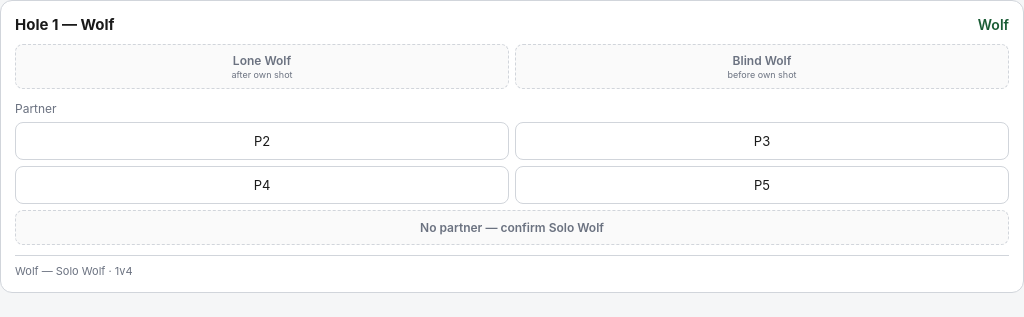
WolfHoleCard — Lone Wolf (declared after own shot, 2x tier) › declaring Lone Wolf clears any partner selection and hides the partner picker
The width and height of the screenshot is (1024, 317).
Click the button "P2": (262, 141) [15,122,509,160]
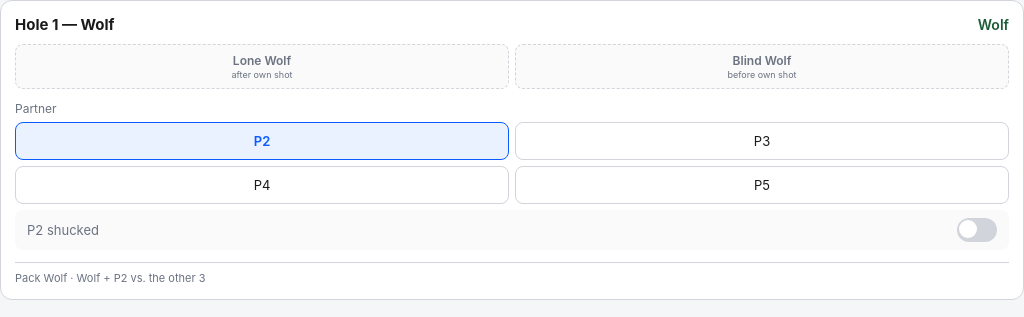
Click the button "Lone Wolf after own shot": (262, 66) [15,44,509,89]
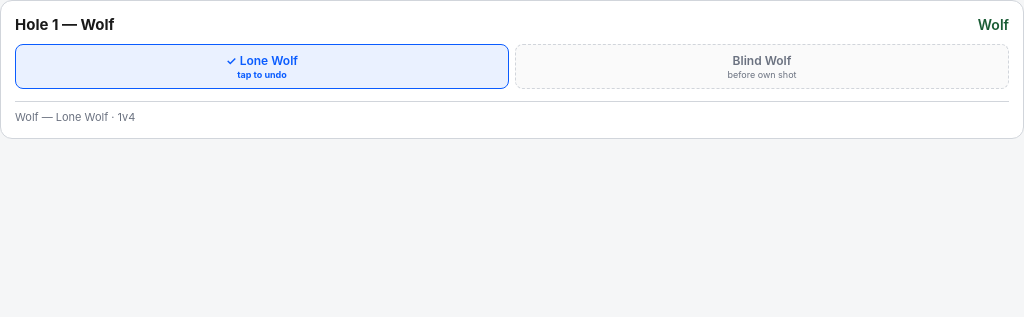
Expected: the text "Wolf — Lone Wolf · 1v4" is shown, [15,101,1009,124]
Expected: the button "P2" is gone
